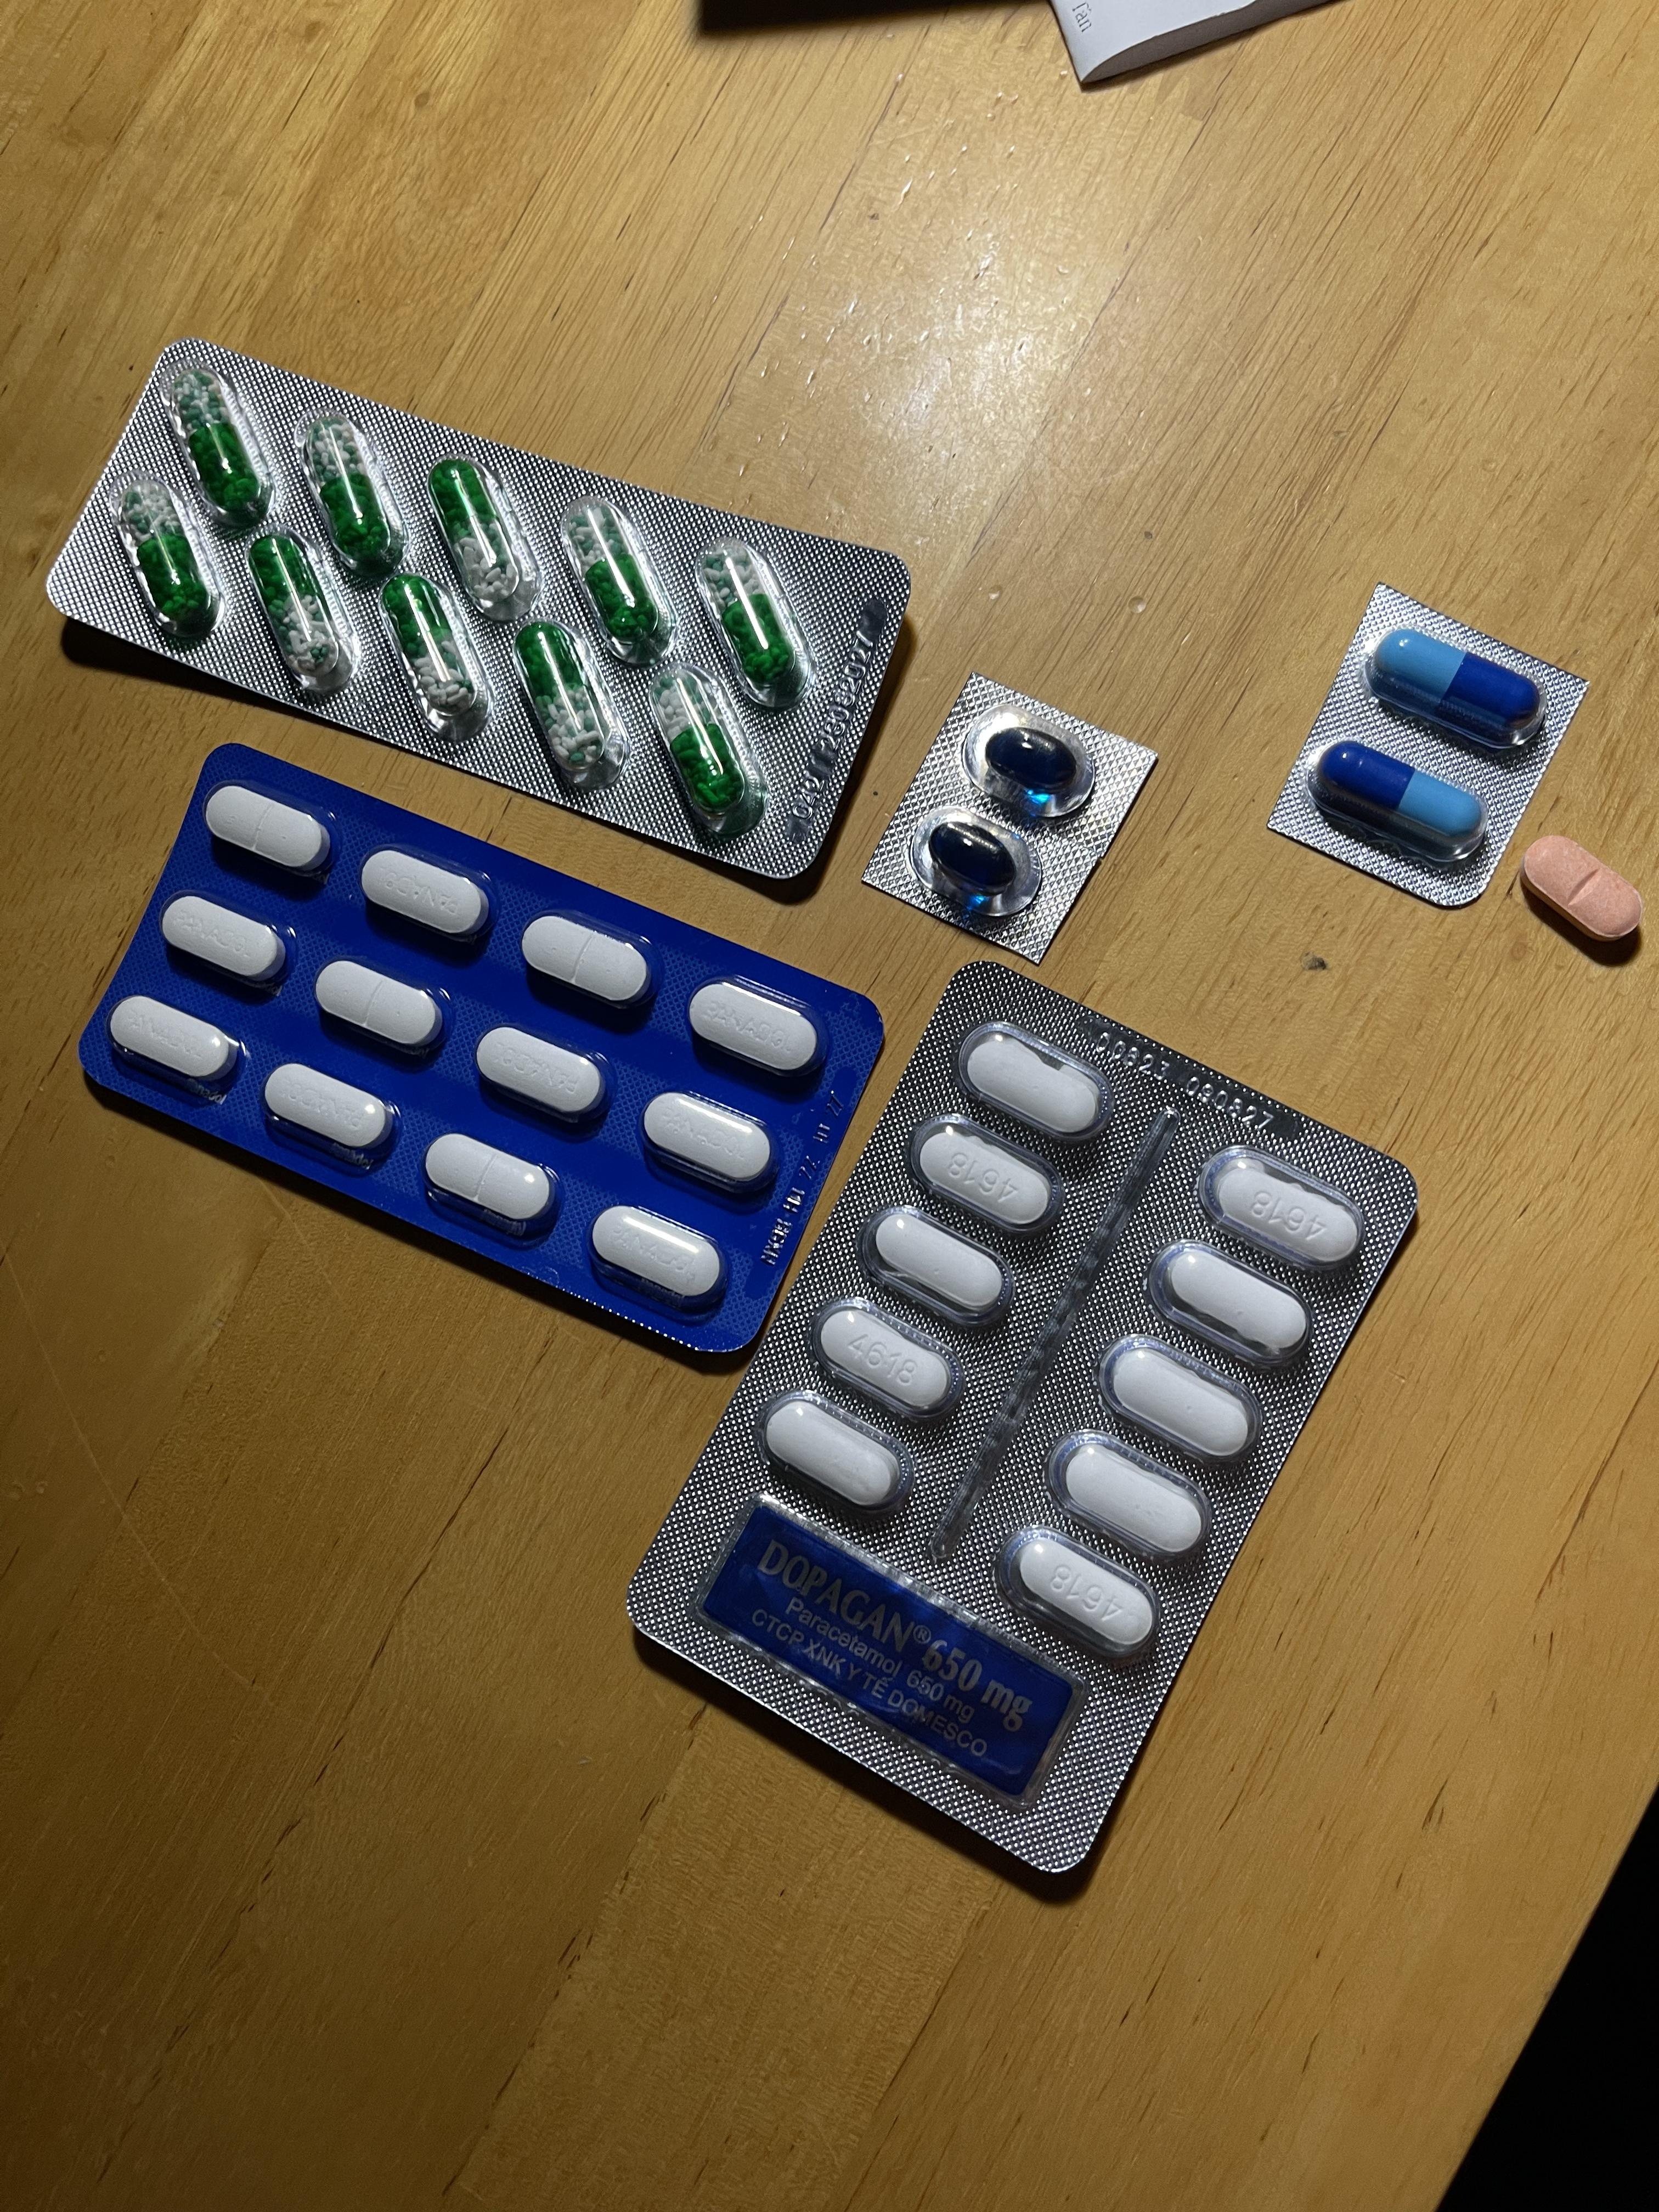Lincomyxin_500mg: (985, 726, 1077, 796), (929, 822, 1014, 895)
Loratadine_10mg: (1521, 834, 1640, 946)
Paracetamol_350mg: (641, 1090, 775, 1195), (589, 1204, 723, 1305), (687, 977, 823, 1076), (521, 909, 653, 1010), (423, 1130, 554, 1231), (314, 956, 444, 1055), (361, 845, 490, 944), (476, 1024, 606, 1122), (108, 993, 239, 1090), (263, 1061, 392, 1158), (202, 780, 331, 876), (162, 894, 288, 989)
Paracetamol_500mg: (1148, 1240, 1310, 1374), (1054, 1437, 1206, 1559), (810, 1298, 955, 1421), (911, 1115, 1061, 1233), (1105, 1341, 1251, 1460), (1014, 1533, 1152, 1649), (765, 1397, 901, 1510), (1213, 1158, 1356, 1263), (964, 1031, 1100, 1136), (873, 1211, 1004, 1315)
Paracetamol_650mg: (160, 361, 277, 531), (648, 667, 753, 822), (701, 538, 803, 693), (566, 495, 666, 655), (430, 456, 530, 611), (516, 625, 612, 777), (117, 482, 214, 631), (251, 535, 345, 686), (310, 413, 397, 570), (382, 575, 477, 712)
pill: (1373, 627, 1535, 733), (1321, 740, 1480, 846)
